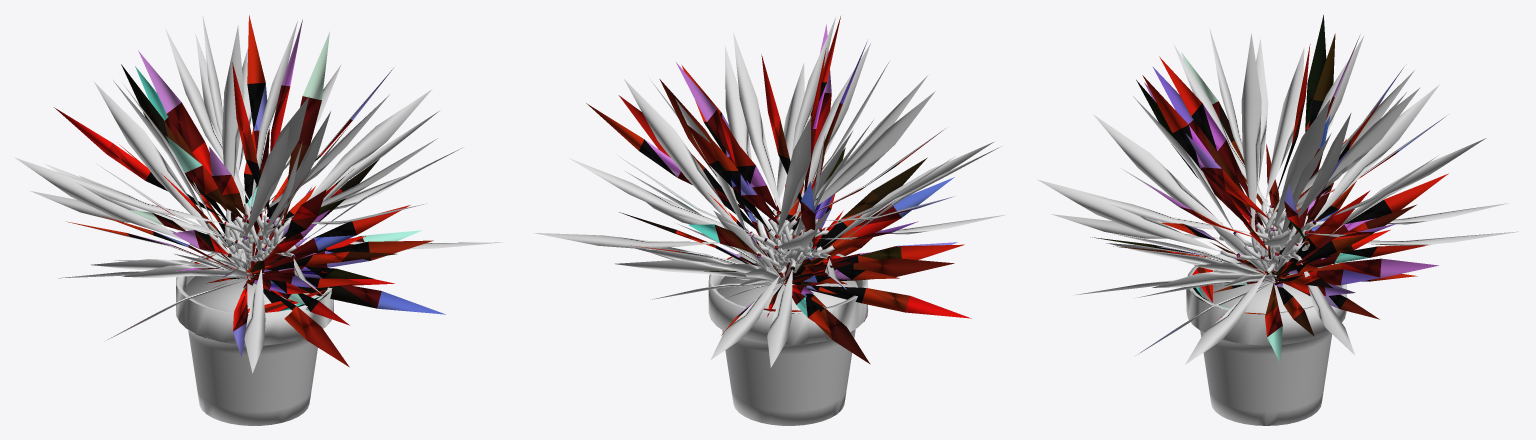
3 renders of one model, left to right at view 1: azimuth 30°, elevation 25°; view 2: azimuth 150°, elevation 25°; view 3: azimuth 270°, elevation 25°, orthographic.
Size of the model in its own units: 0.8986 by 0.7833 by 0.95.
